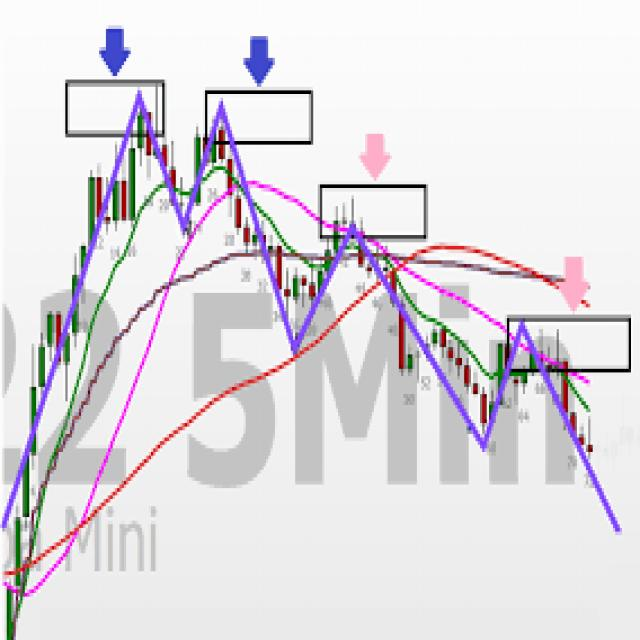topo_duplo: (23, 62, 281, 598)
